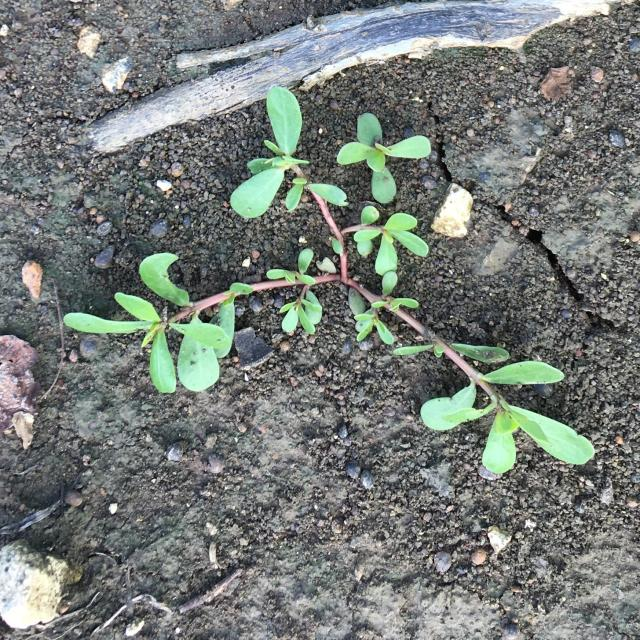Purslane: (63, 86, 595, 475)
